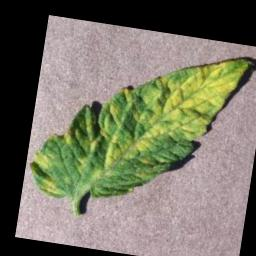Leaf_Mold: (56, 32, 252, 219), (28, 147, 60, 176), (38, 172, 62, 197)
